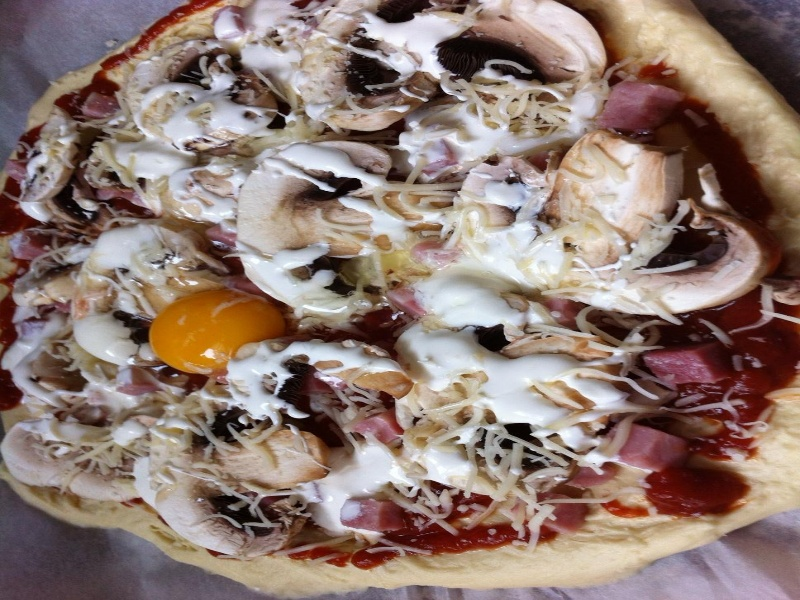champignon: (452, 127, 764, 318), (138, 393, 338, 553), (226, 134, 390, 320)
oeuf: (140, 284, 298, 382)
